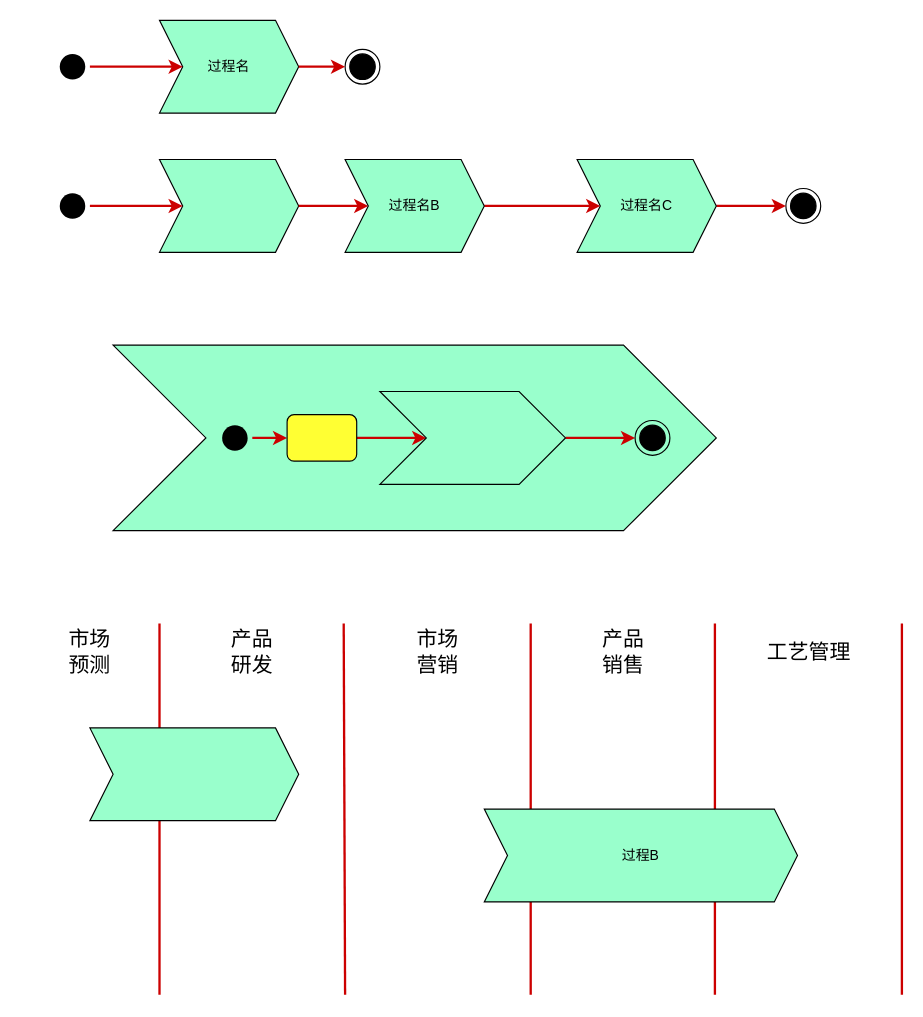
Image size: 923x1017. Some labels were removed from this diagram. Here are the shapes that lost their labels. From the top down, the centre of each, then its label:
At point (228, 205): "过程名A".
At point (194, 774): "过程A".
